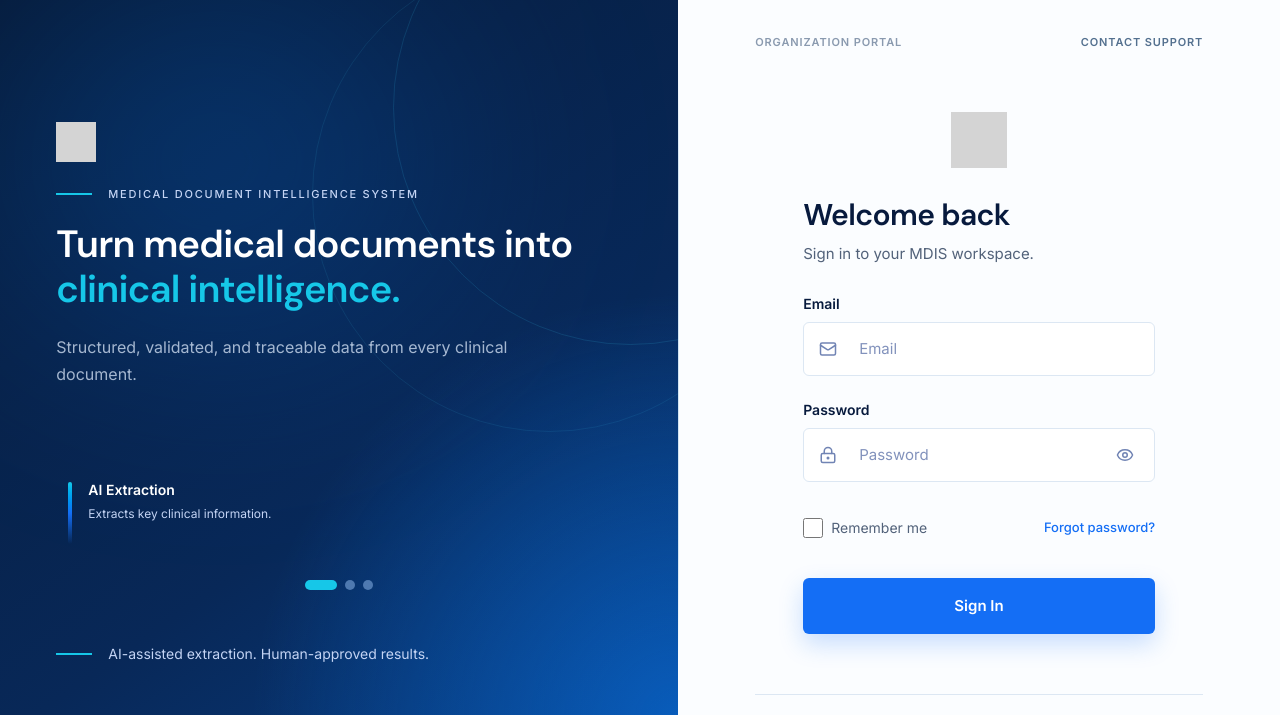
frontend authentication core › shows the account status page for rejected
The image size is (1280, 715).
Step 1. Type "clinician@example.test" into the field labelled "Email" → point(979, 348), box top-left (803, 322), bottom-right (1155, 376)
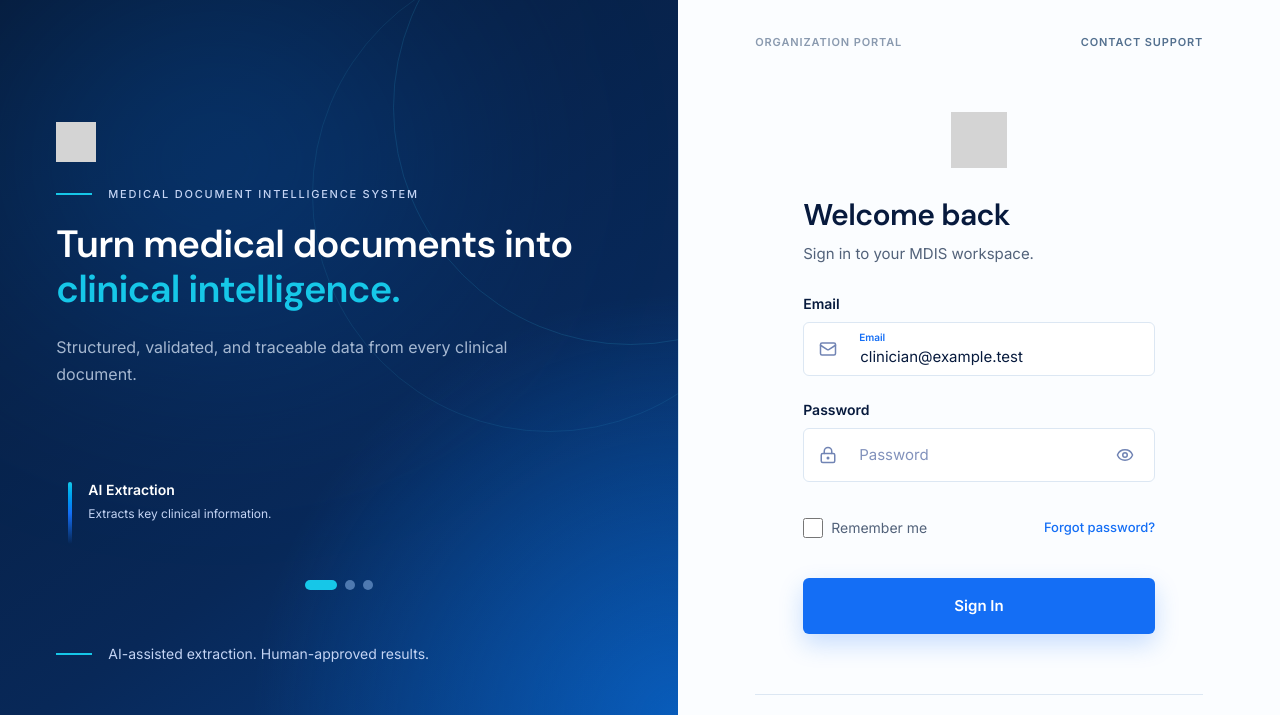
Step 2. Type "synthetic secret phrase" into the password field labelled "Password" → point(979, 454), box top-left (803, 428), bottom-right (1155, 482)
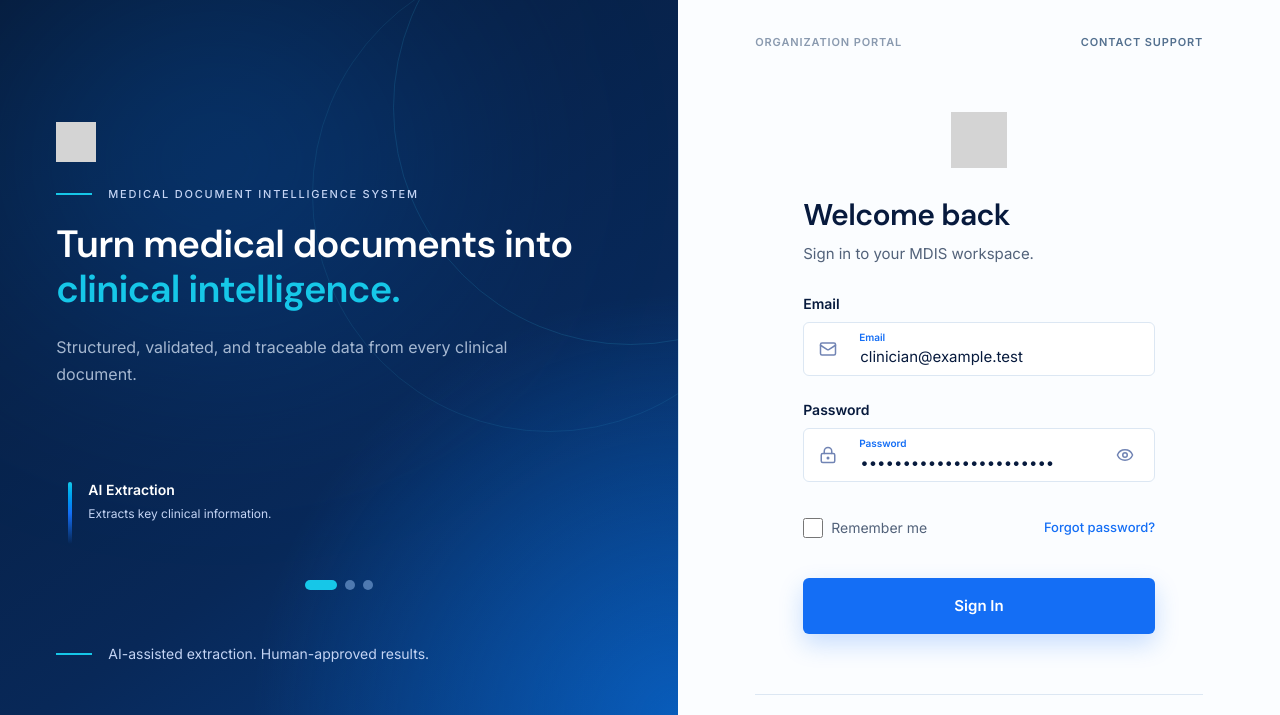
Step 3. Click the button "Sign In" → point(979, 606), box top-left (803, 578), bottom-right (1155, 634)
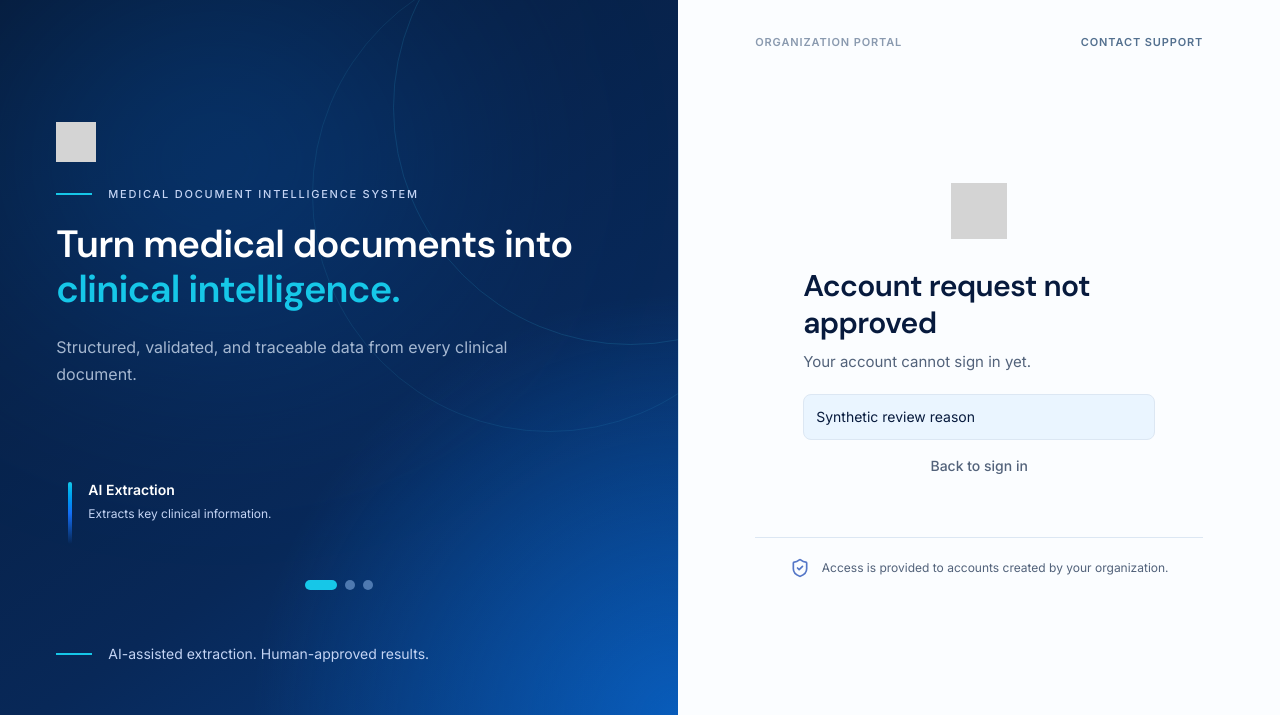
expect the heading "Account request not approved" is shown: met, box top-left (803, 266), bottom-right (1090, 342)
expect the message reads "Synthetic review reason": met, box top-left (816, 408), bottom-right (975, 424)
expect the text labelled "Password" is gone: met
